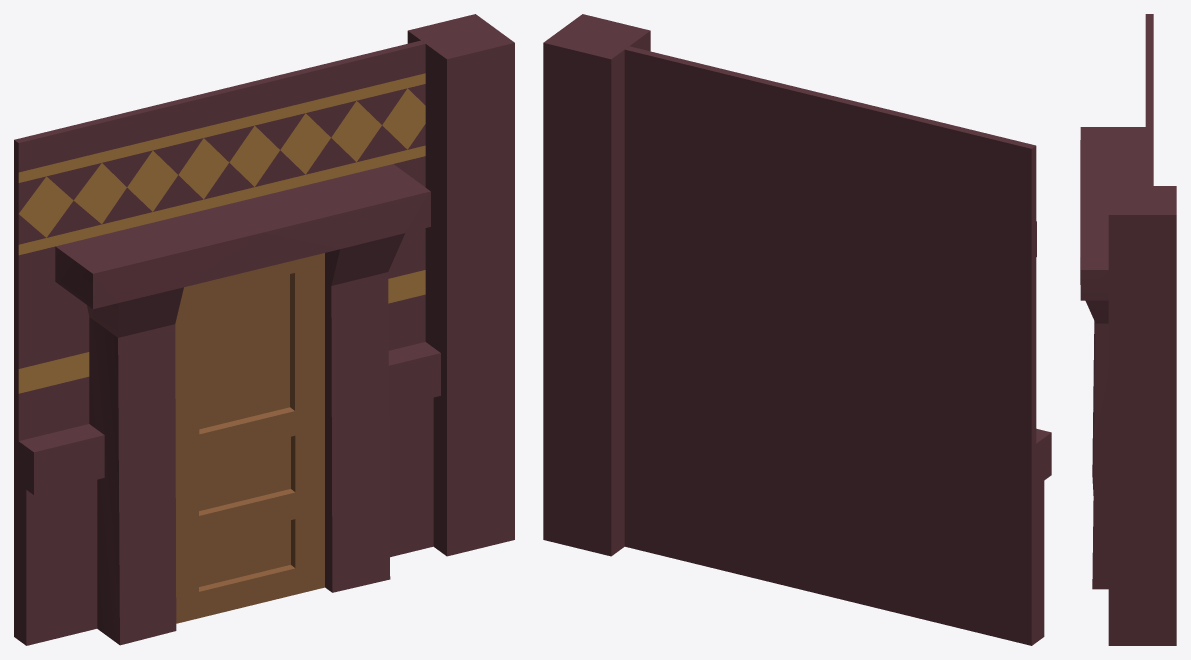
File: SM_Wall_Door_L_3x3m_Empire.fbx
3 renders of one model, left to right at view 1: azimuth 30°, elevation 25°; view 2: azimuth 150°, elevation 25°; view 3: azimuth 270°, elevation 25°, orthographic. The views are drawn at different scales.
Parts seen in each view (by area): view 1: SM_Wall_Door_L_3x3m_Empire; view 2: SM_Wall_Door_L_3x3m_Empire; view 3: SM_Wall_Door_L_3x3m_Empire.
Boxes of the visible parts, x1=… form: SM_Wall_Door_L_3x3m_Empire: x1=14, y1=14, x2=514, y2=645; SM_Wall_Door_L_3x3m_Empire: x1=543, y1=14, x2=1051, y2=645; SM_Wall_Door_L_3x3m_Empire: x1=1080, y1=14, x2=1176, y2=645.
Size of the model in its own units: 3 by 3 by 0.6096.
